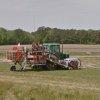Tractor: (12, 33, 87, 77)
